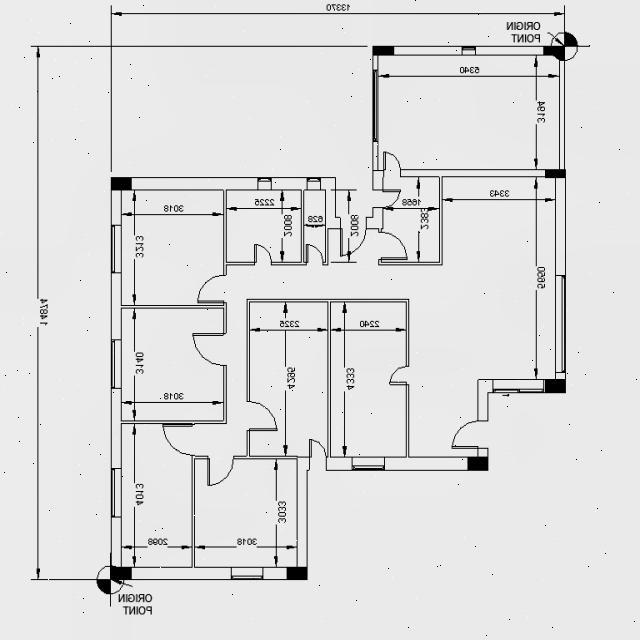Column: (110, 566, 132, 580), (468, 456, 488, 471), (545, 379, 566, 393), (110, 177, 132, 190), (287, 566, 307, 580), (543, 46, 565, 56), (372, 46, 394, 56), (545, 169, 566, 178)
Door: (191, 334, 227, 366), (162, 423, 195, 456), (340, 217, 367, 257), (378, 228, 408, 262), (452, 421, 488, 448), (246, 401, 278, 431), (197, 275, 227, 306), (208, 456, 234, 486), (308, 439, 328, 471), (372, 190, 400, 208), (384, 152, 402, 178), (304, 243, 324, 266), (254, 243, 272, 266), (389, 366, 409, 386)
Window: (555, 275, 566, 373), (492, 379, 544, 393), (110, 339, 122, 389), (110, 468, 122, 518), (111, 225, 122, 273), (352, 456, 386, 471), (231, 566, 263, 580), (372, 70, 378, 142), (307, 177, 321, 191), (258, 177, 272, 191), (462, 46, 476, 56)
